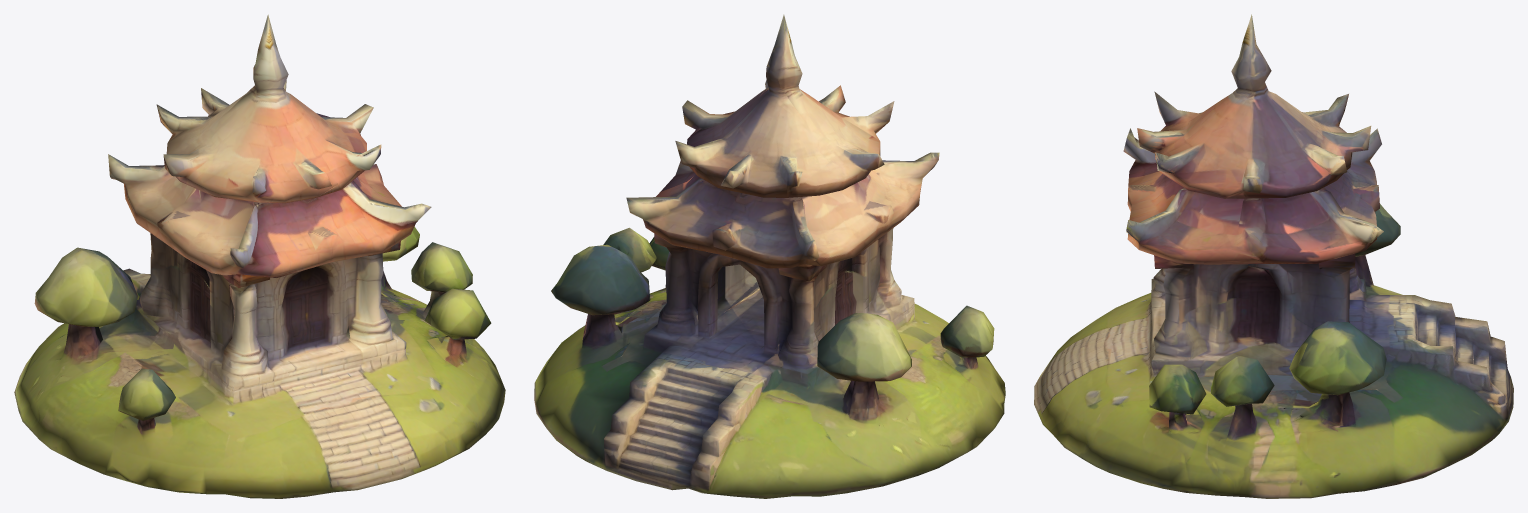
The model's file is Spirit_Temple.fbx.
The picture shows the model from 3 angles, left to right: view 1: azimuth 30°, elevation 25°; view 2: azimuth 150°, elevation 25°; view 3: azimuth 270°, elevation 25°; orthographic projection. The views are drawn at different scales.
Visible parts, largest first — view 1: Mesh1_Mesh1.035; view 2: Mesh1_Mesh1.035; view 3: Mesh1_Mesh1.035.
Part boxes in pixels (<box>): Mesh1_Mesh1.035: <box>14,14,505,498</box>; Mesh1_Mesh1.035: <box>534,14,1005,498</box>; Mesh1_Mesh1.035: <box>1034,14,1513,498</box>.
Size of the model in its own units: 22.71 by 20 by 22.65.
Materials: 1 (1 with a texture image).
